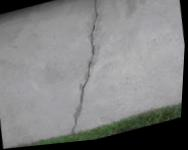crack: (73, 0, 98, 136)
